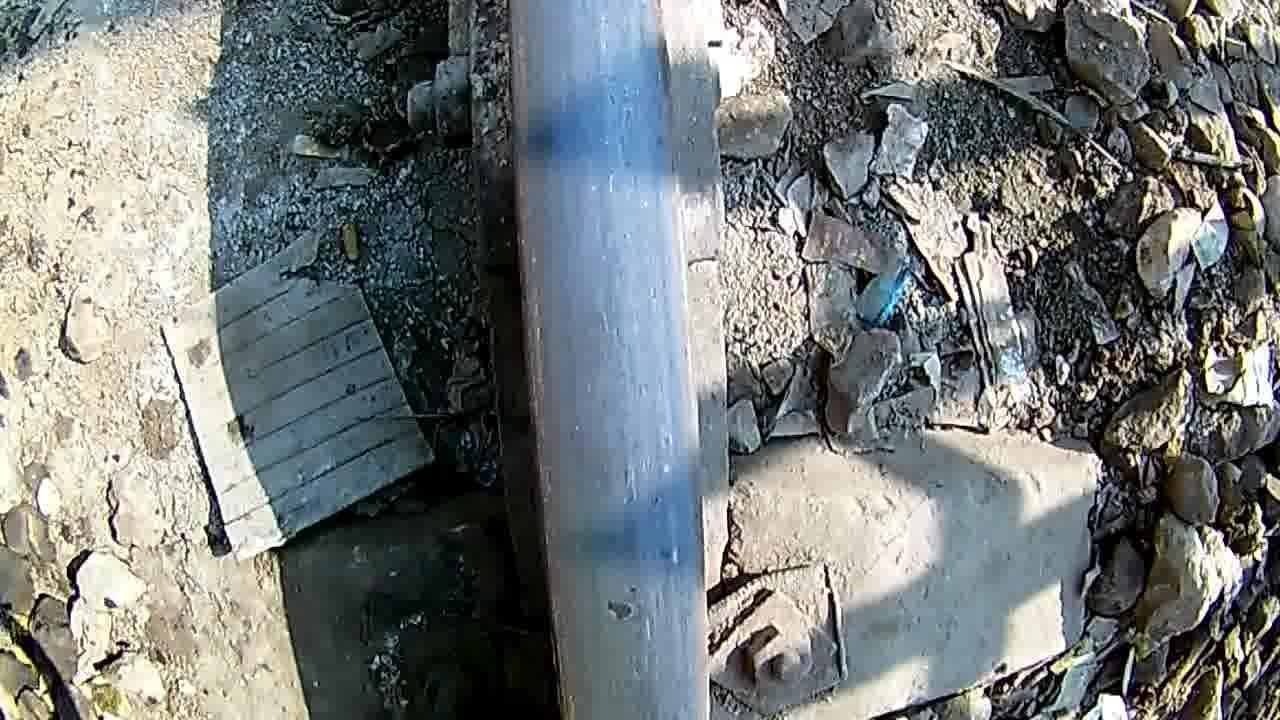crack: (523, 18, 673, 272), (564, 432, 701, 660)
